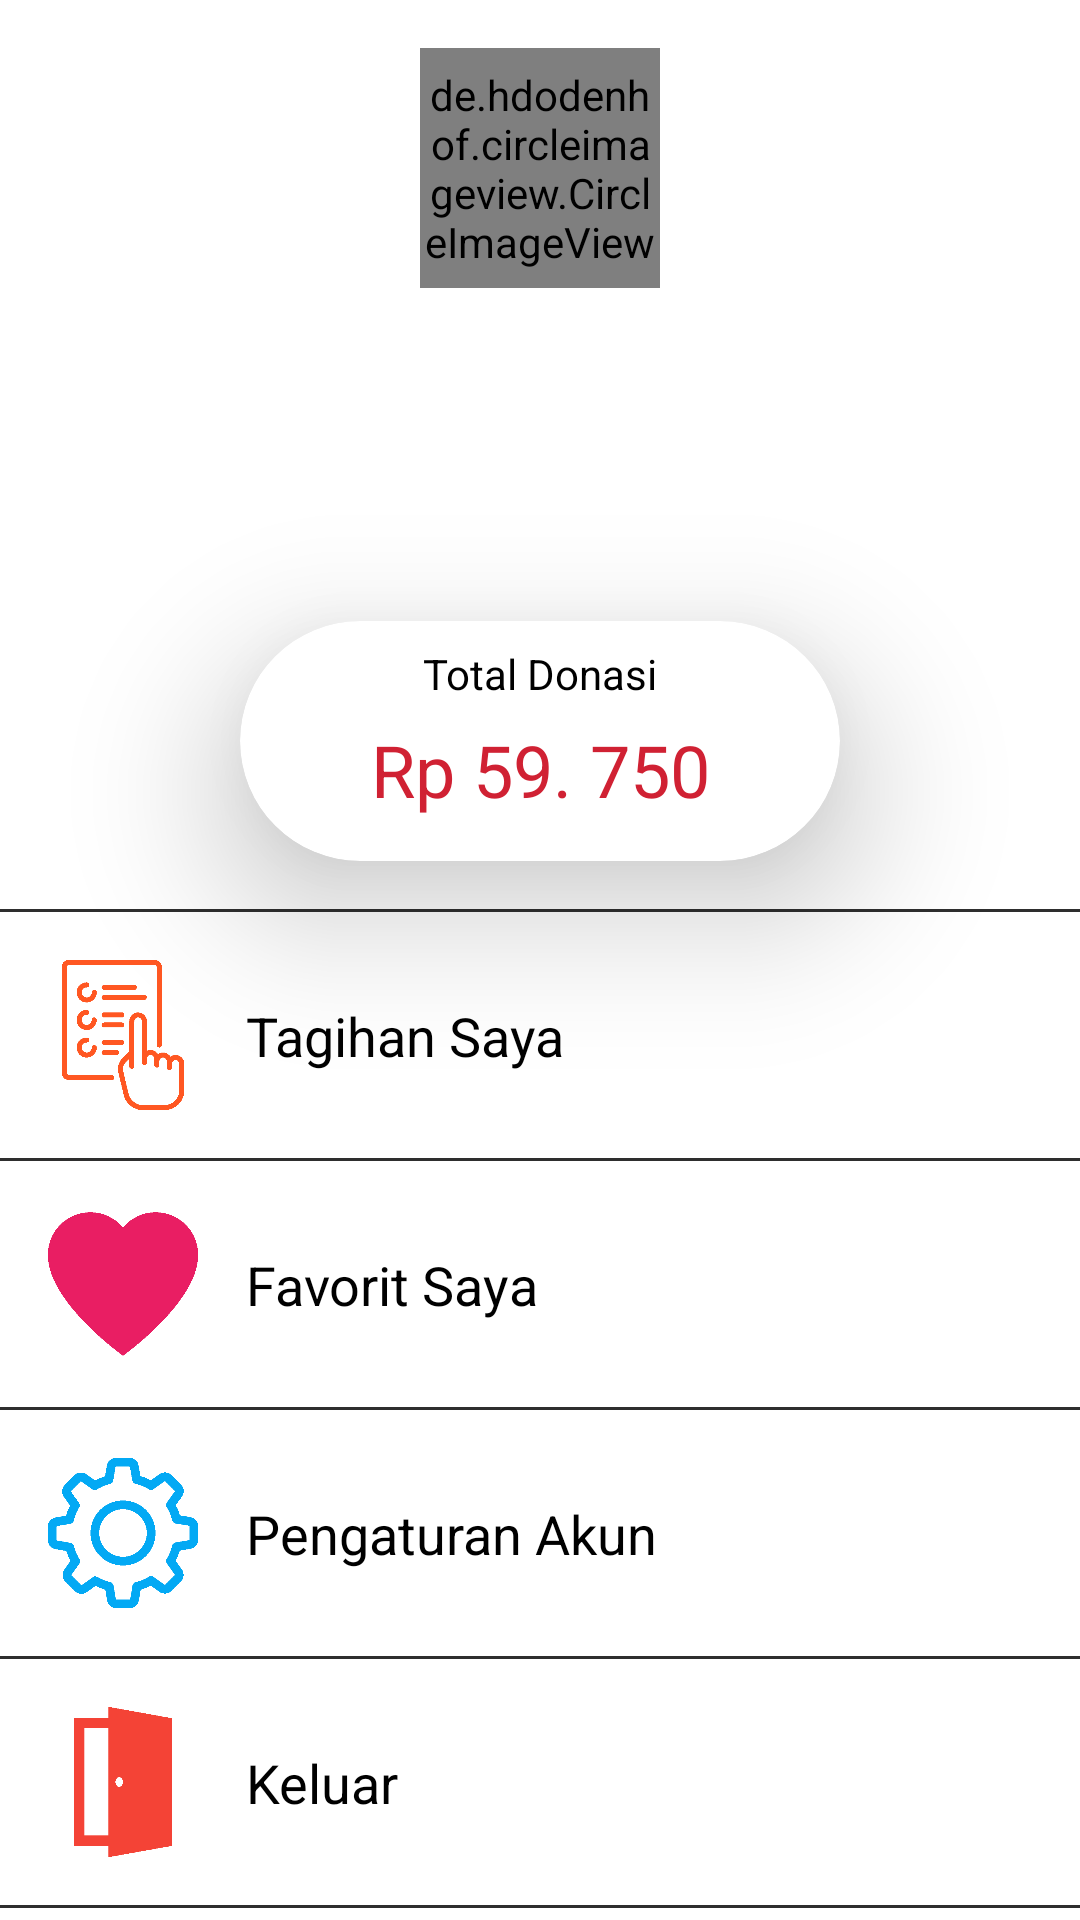

Where icons sit on this 1080*1920 app screen, as (x1, y1, x2, y2):
gear: (48, 1458, 198, 1608)
heart: (48, 1212, 198, 1356)
pesanan saya: (62, 960, 184, 1110)
